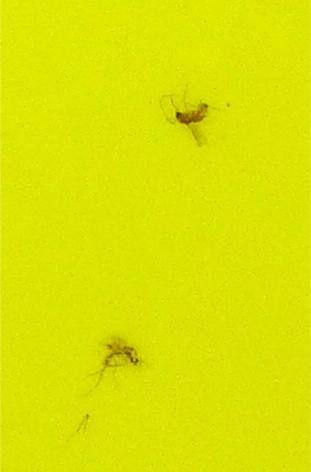Nematocera: (172, 100, 211, 145), (100, 335, 142, 372)
